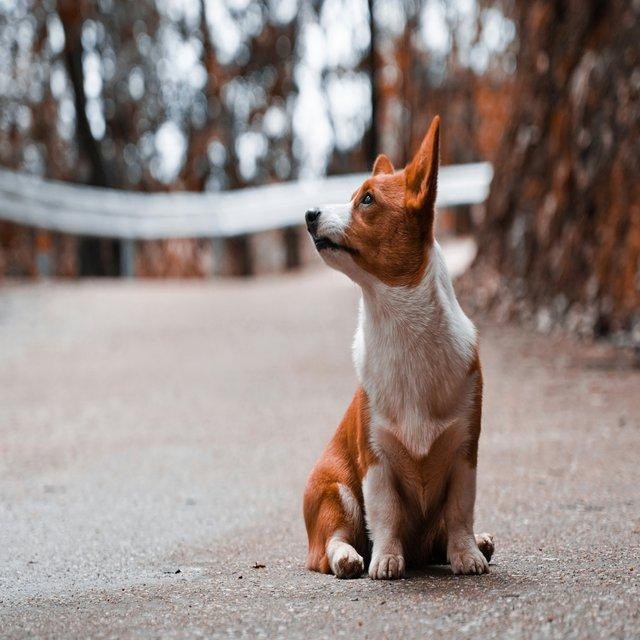corgi: (300, 113, 495, 580)
